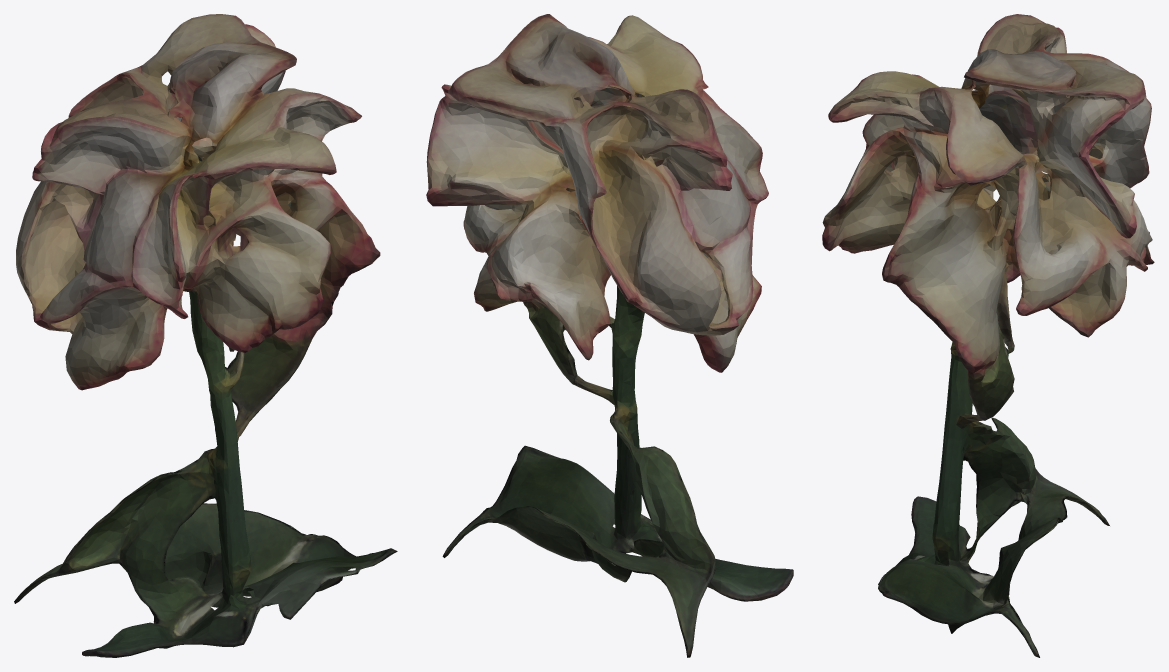
3 renders of one model, left to right at view 1: azimuth 30°, elevation 25°; view 2: azimuth 150°, elevation 25°; view 3: azimuth 270°, elevation 25°, orthographic. The views are drawn at different scales.
Parts seen in each view (by area): view 1: world; view 2: world; view 3: world.
Boxes of the visible parts, bbox=[...] form: world: bbox=[14, 14, 397, 657]; world: bbox=[426, 14, 793, 657]; world: bbox=[822, 14, 1154, 657].
Size of the model in its own units: 0.5582 by 0.9808 by 0.5265.
Materials: 1 (1 with a texture image).
